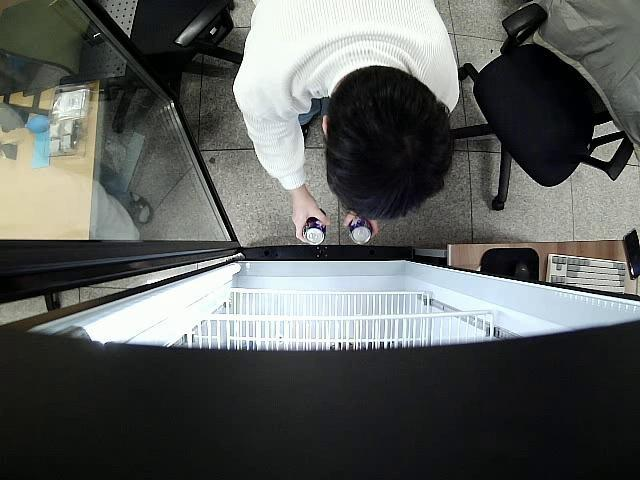14_welchsGrape: (346, 214, 372, 246), (300, 216, 326, 246)
